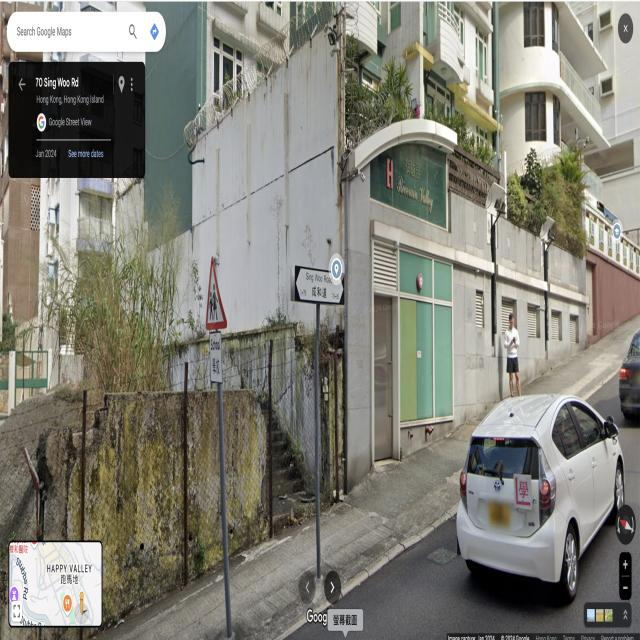Order-Sign: (209, 332, 223, 382)
Street-Direction-Sign: (295, 265, 345, 305)
Warning-Sign: (204, 255, 228, 330)
